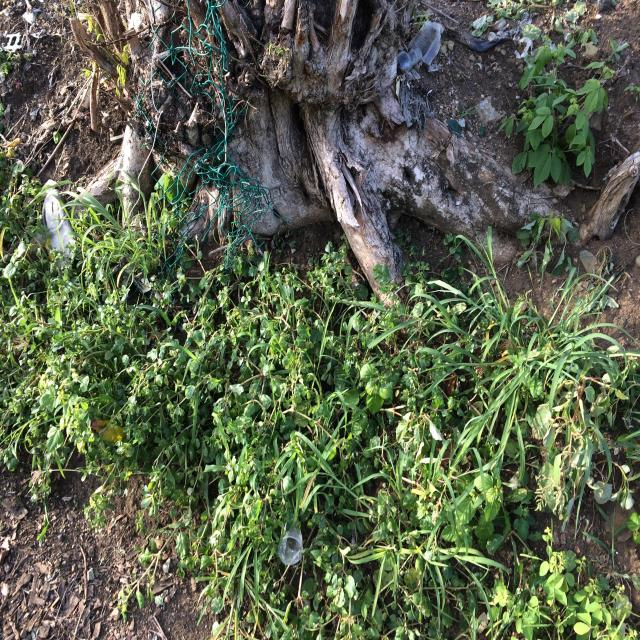litter: (41, 189, 75, 267), (279, 523, 304, 565)
